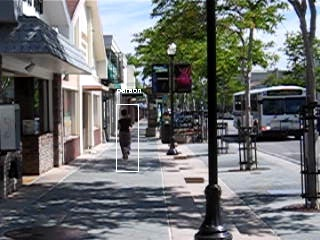person: (117, 109, 134, 162), (116, 109, 133, 162), (118, 109, 135, 162), (117, 108, 134, 161), (117, 110, 134, 163)
target_negative: (197, 61, 293, 186), (217, 20, 260, 133), (305, 4, 316, 204), (67, 92, 145, 109), (131, 214, 261, 224), (294, 227, 306, 232)
